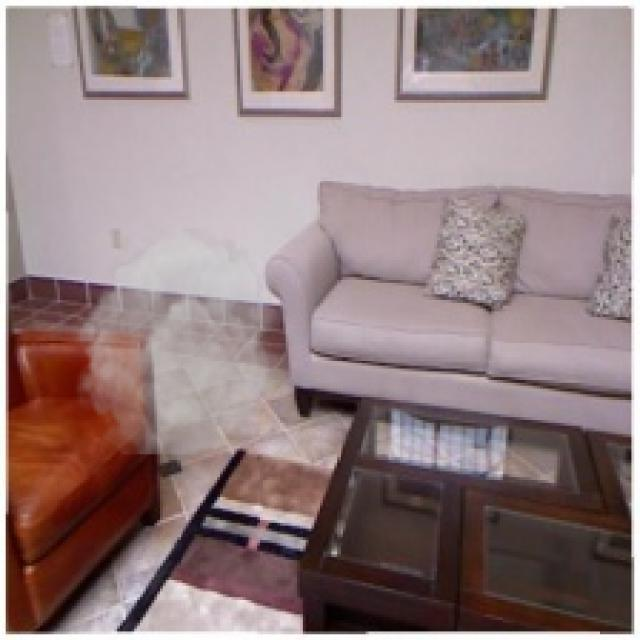Smoke: (68, 228, 286, 454)
